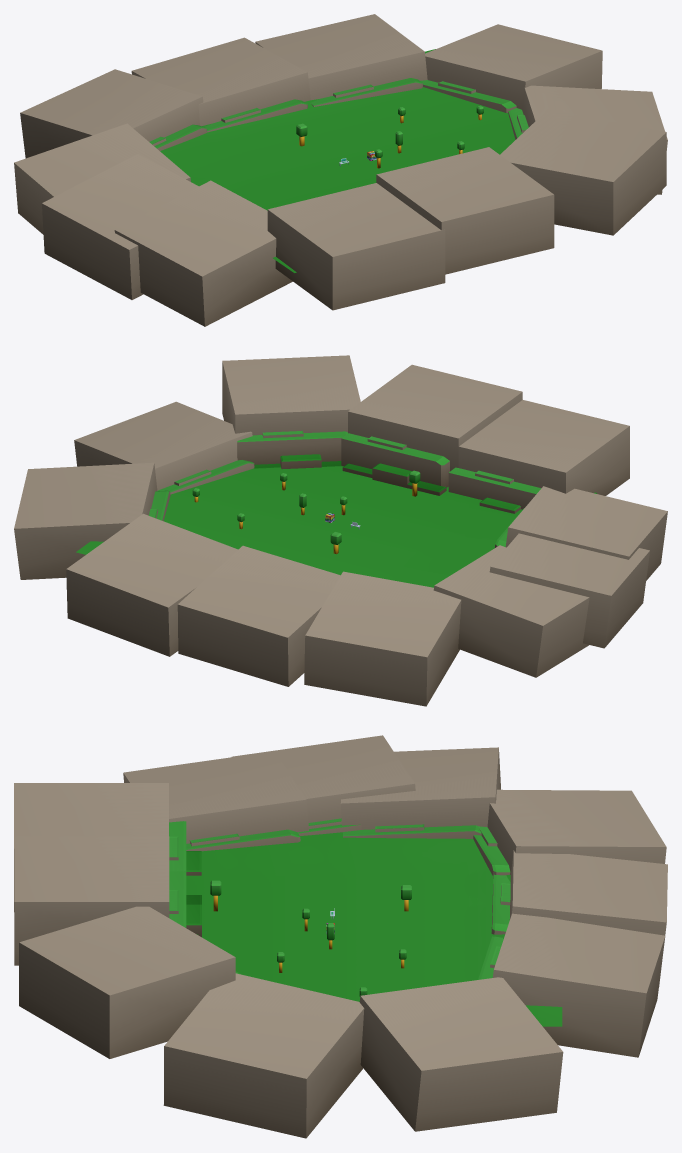
The model's file is forest1.glb.
3 views of the same model, one above another, from view 1: azimuth 30°, elevation 25°; view 2: azimuth 150°, elevation 25°; view 3: azimuth 270°, elevation 25° (orthographic). The views are drawn at different scales.
Visible parts, largest first — view 1: Cube.002, Cube; view 2: Cube.002, Cube; view 3: Cube.002, Cube.
Part boxes in pixels (box(x1,y1,x2,y2)): Cube.002: box(14, 14, 667, 326); Cube: box(160, 49, 515, 272); Cube.002: box(14, 355, 667, 706); Cube: box(76, 466, 596, 587); Cube.002: box(14, 735, 667, 1138); Cube: box(186, 832, 562, 1026).
Bounding box in the file's own units: 192 × 29.74 × 158.
Materials: 1 (1 with a texture image).
